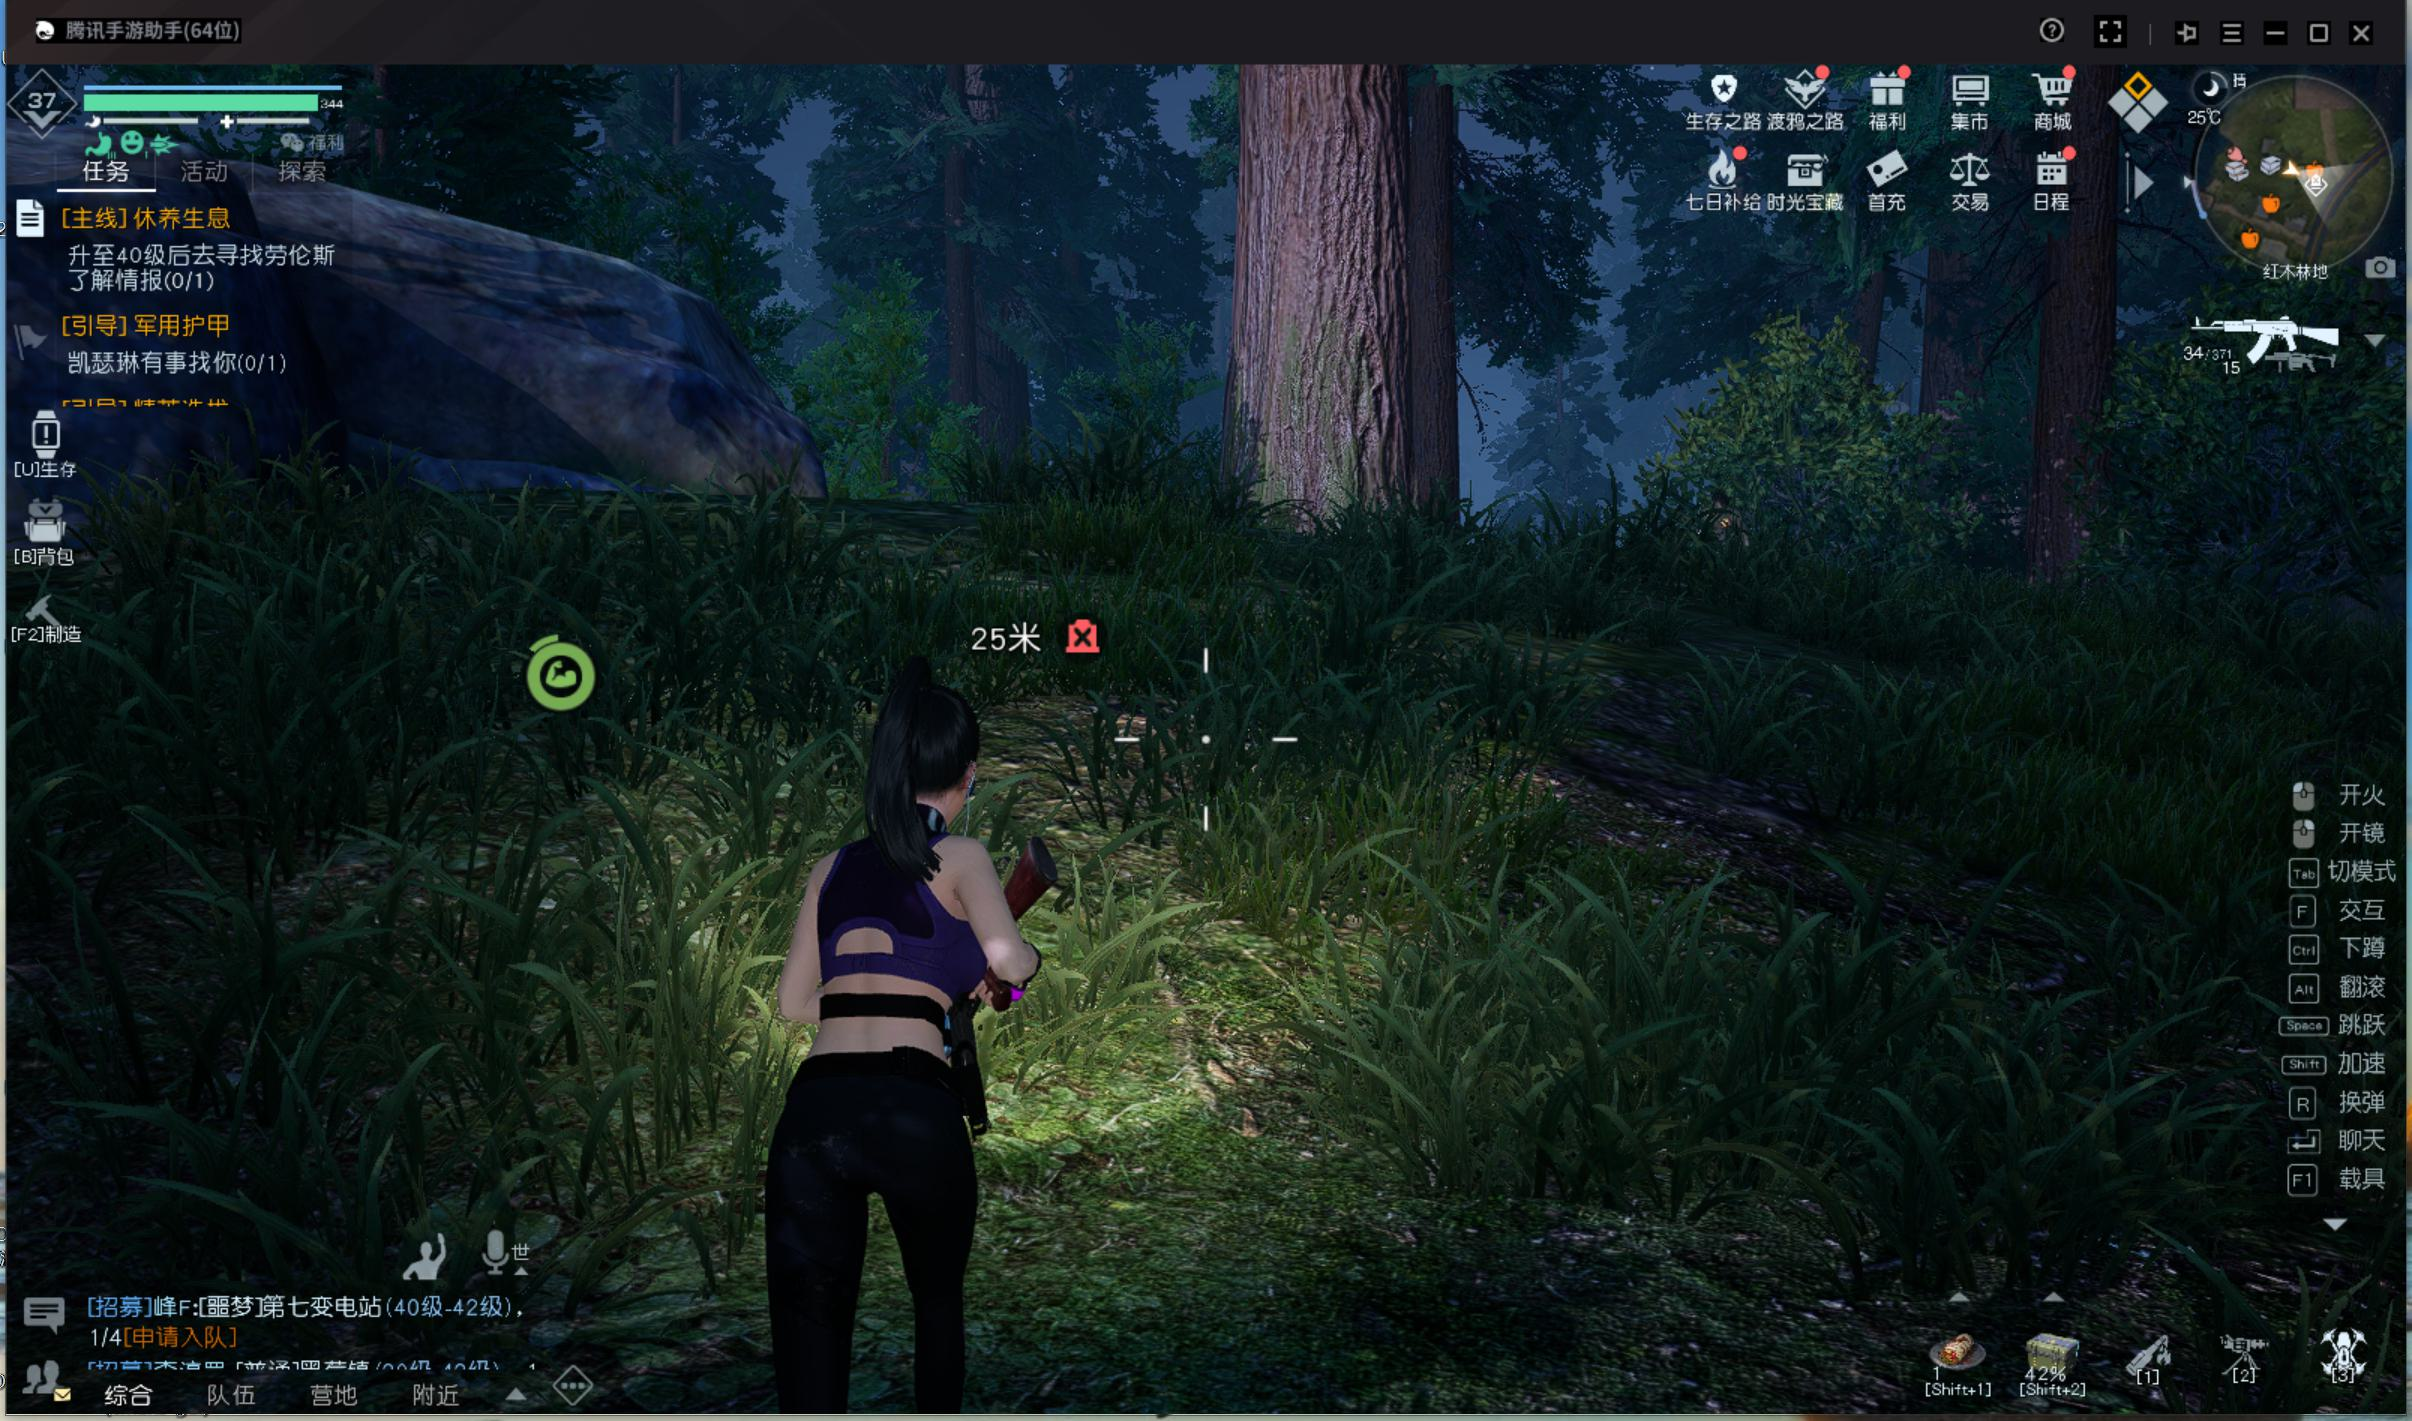tree: (1209, 100, 1421, 567), (2031, 227, 2124, 638)
